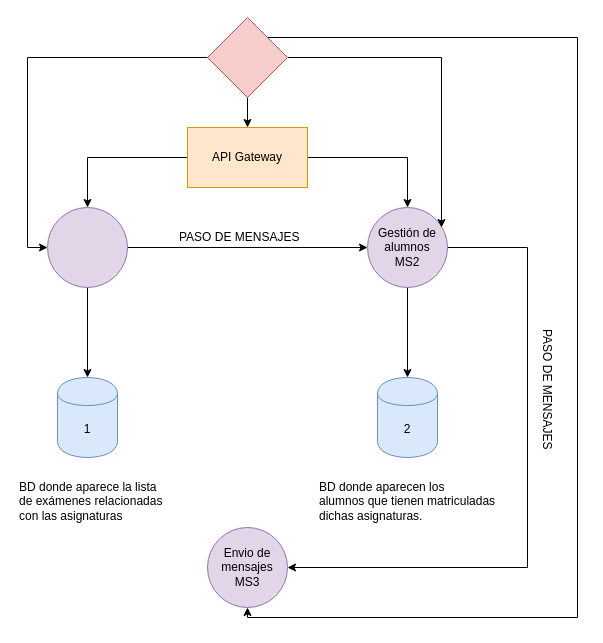
Some shapes in this 603 by 643 pixel diagram are drawn without their labels. Here are the shapes that lost their labels. From the top down, the box of each, then its label:
(206, 16, 288, 98): LOGS
(46, 206, 128, 288): Gestión de exámenes MS1
